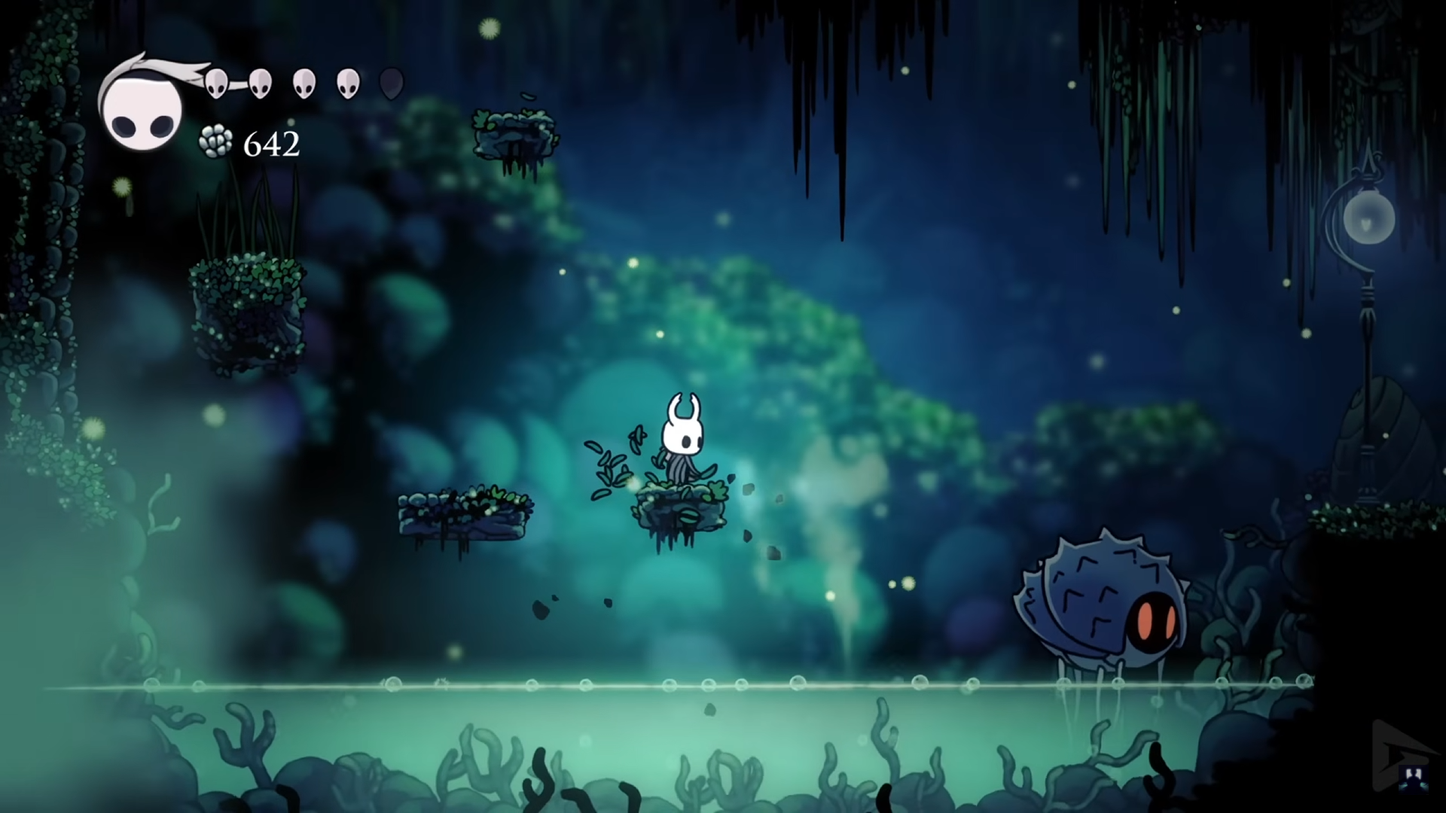HK: (649, 386, 712, 488)
